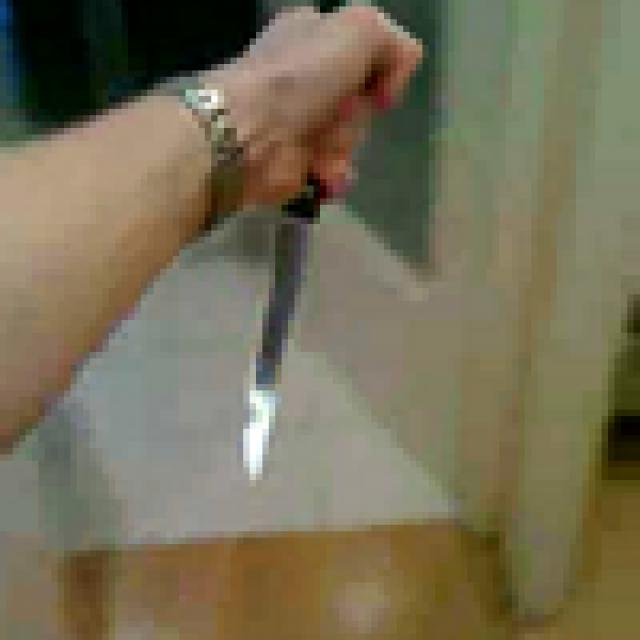Knife: (218, 0, 460, 499)
